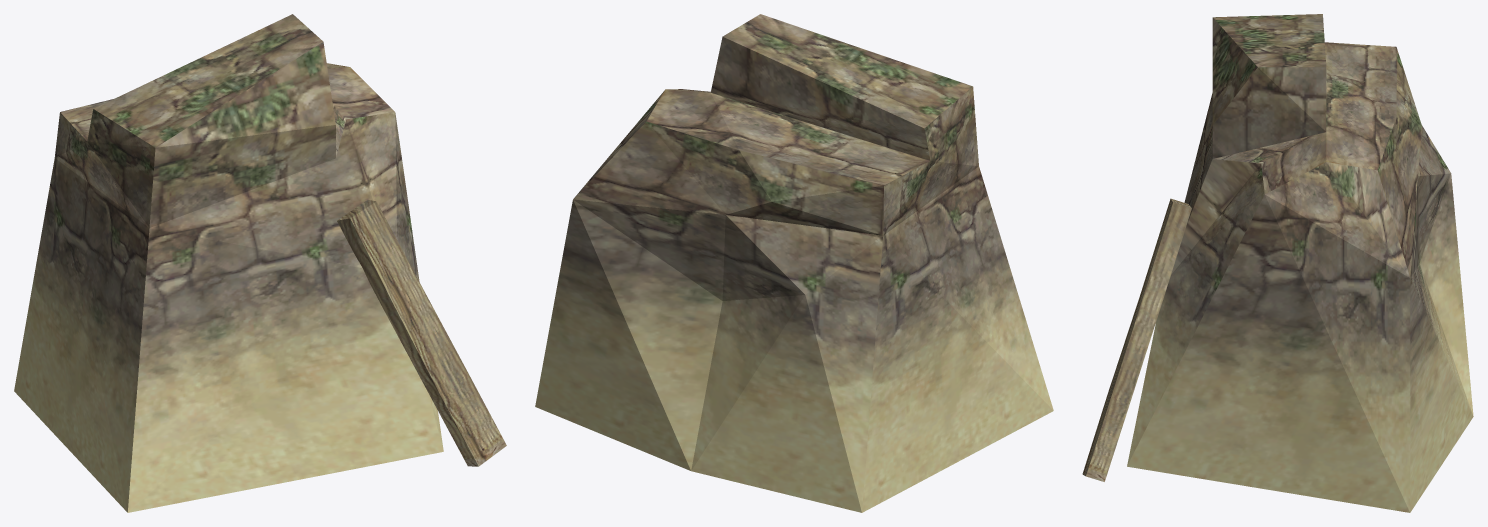
File: C3SMWALLDEBRISC.obj
3 renders of one model, left to right at view 1: azimuth 30°, elevation 25°; view 2: azimuth 150°, elevation 25°; view 3: azimuth 270°, elevation 25°, orthographic.
Visible parts, largest first — view 1: Node 0; view 2: Node 0; view 3: Node 0.
Boxes of the visible parts, x1,y1,x2,y2 form: Node 0: (14,14,506,512); Node 0: (535,14,1053,512); Node 0: (1082,14,1473,512).
Bounding box in the file's own units: 5.3 × 4.93 × 4.57.
1 material, 1 textured.
